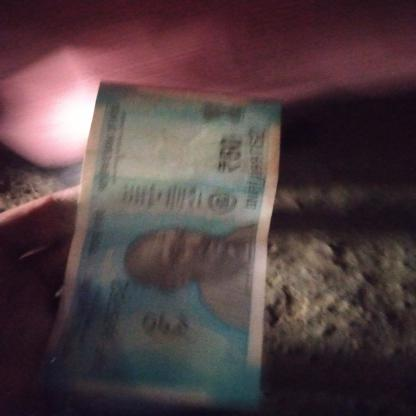New50Front: (78, 85, 262, 415)
